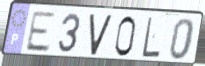0: (168, 17, 196, 61), (113, 14, 138, 58)
3: (57, 12, 82, 55)
E: (24, 10, 57, 54)
L: (141, 16, 162, 59)
V: (88, 13, 114, 57)
